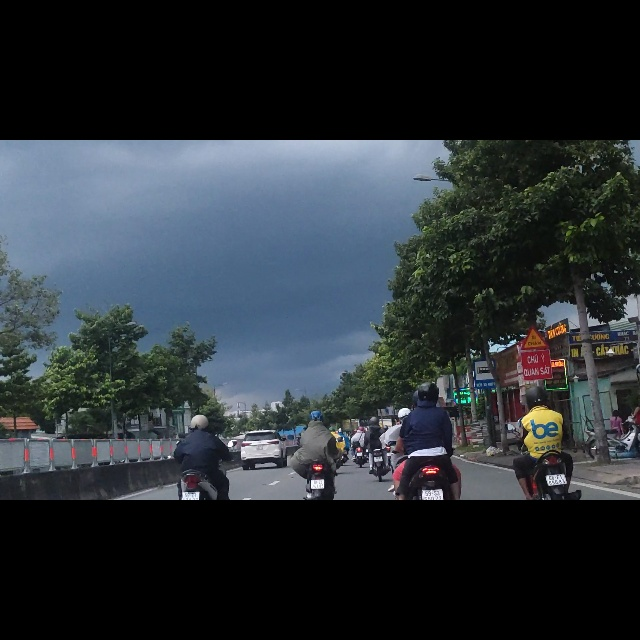bien_nguy_hiem: (472, 388, 499, 442), (519, 331, 549, 375)
